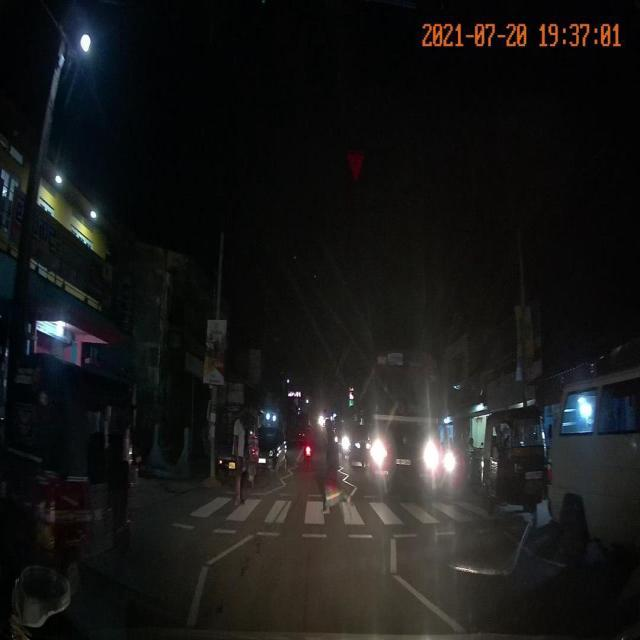Crosswalk: (166, 485, 534, 547)
